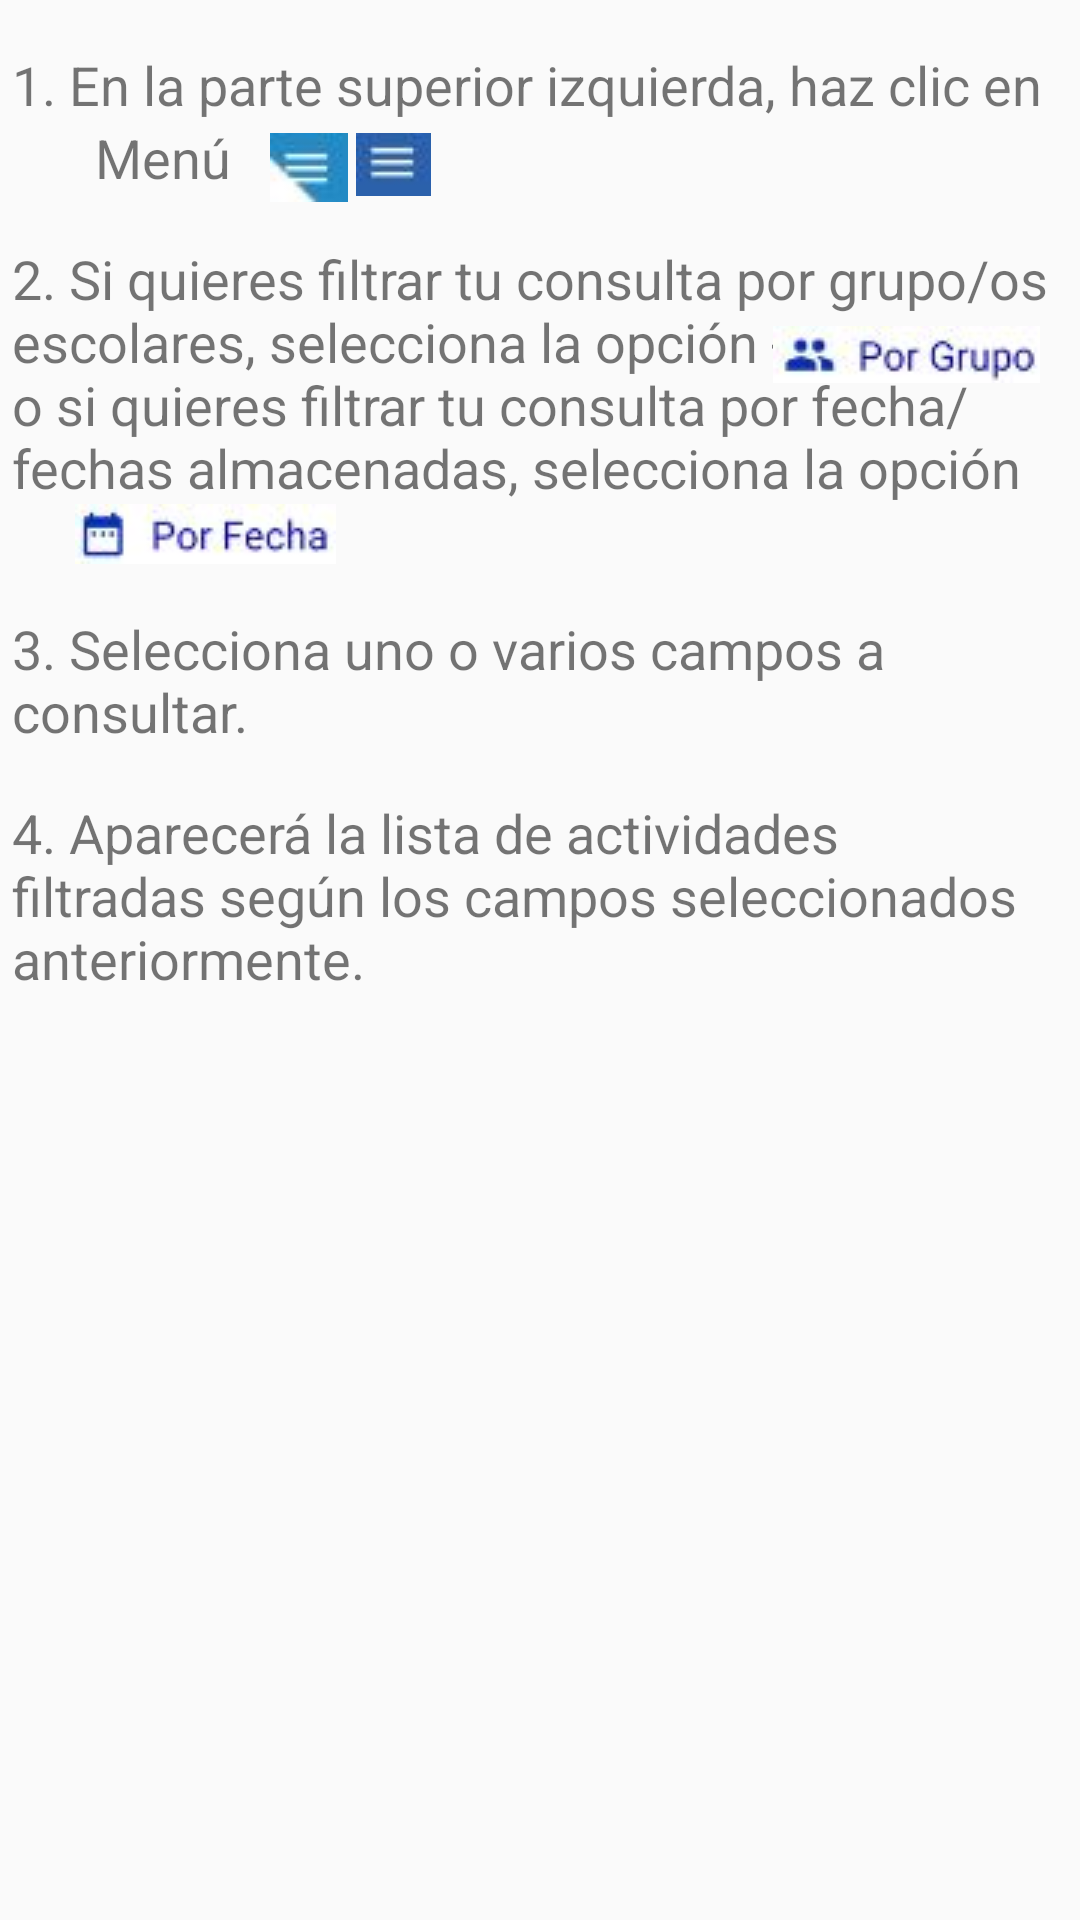

Screen size 1080x1920. Icon name, then its box in pixels as {"left": x1, "top": y1, "right": x2, "bottom": y2}:
menu: {"left": 270, "top": 133, "right": 348, "bottom": 202}, {"left": 356, "top": 133, "right": 431, "bottom": 196}
